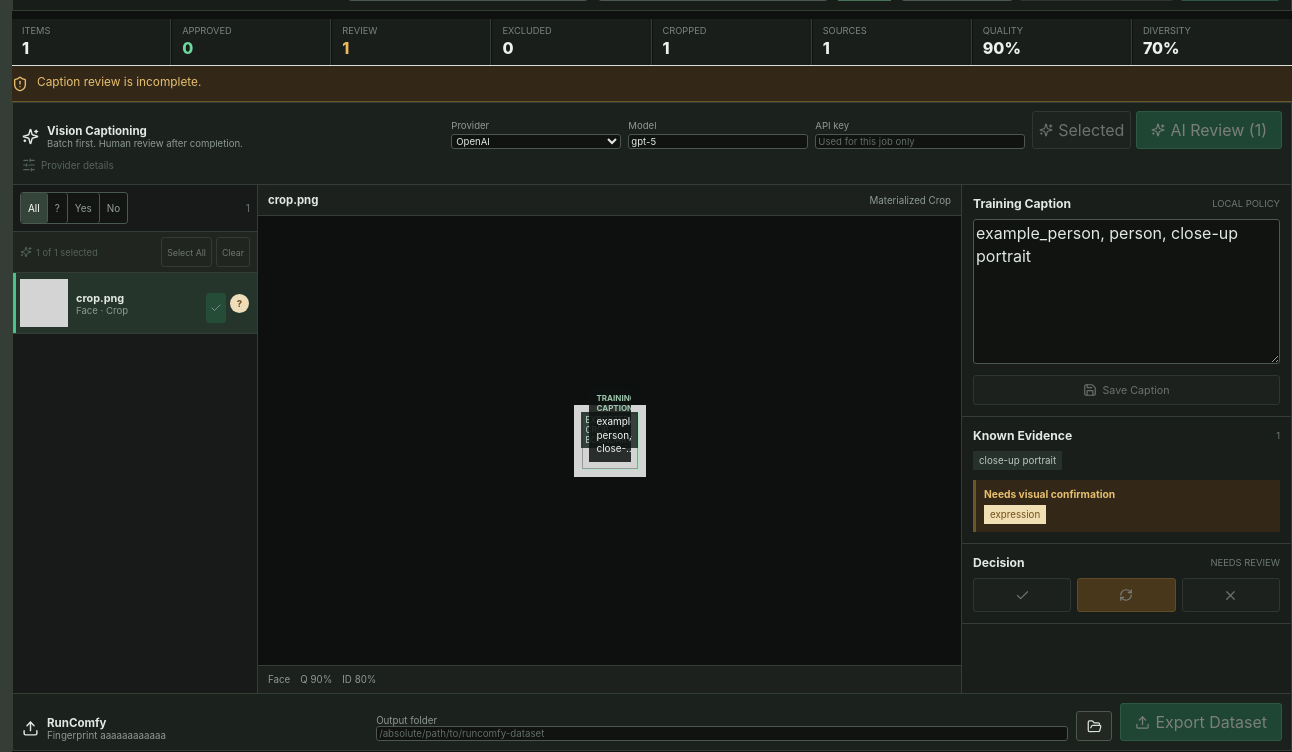
Test case: TrainTab › strips shell quotes from an export folder before sending it to the engine
The width and height of the screenshot is (1292, 752).
(page scrolled)
Type "'/tmp/runcomfy quoted'" into the field labelled "Output folder" at (722, 734), box [376,726,1068,741]
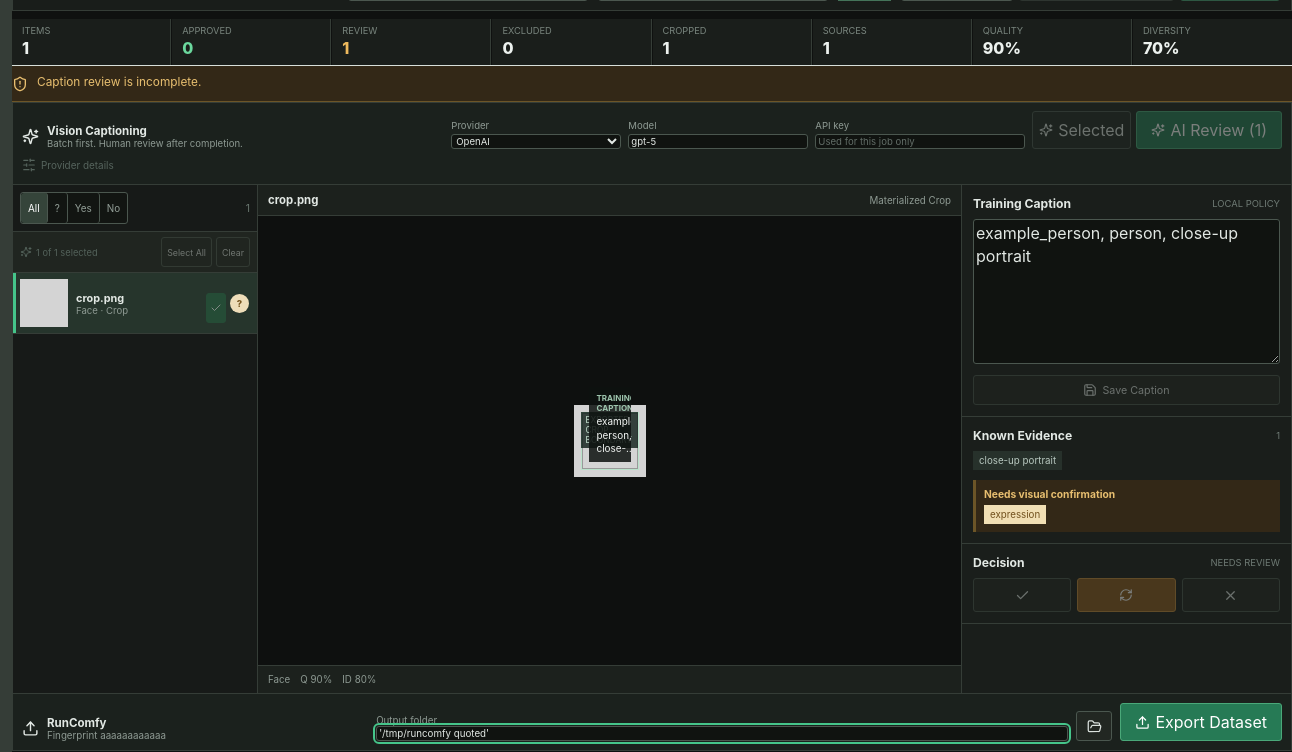
Click the button "Export Dataset" at (1201, 722), box [1120,703,1282,741]
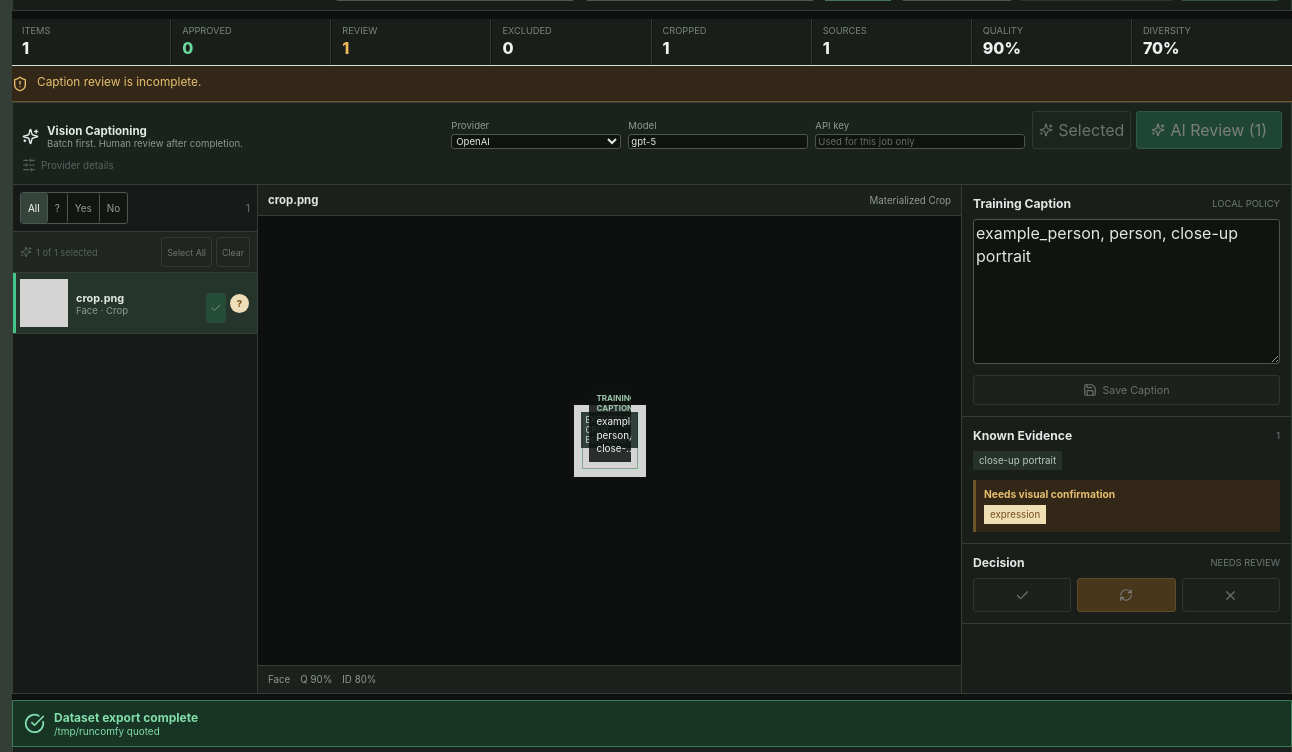
Result: the element "Dataset export complete" is shown at [12,700,1291,747]
